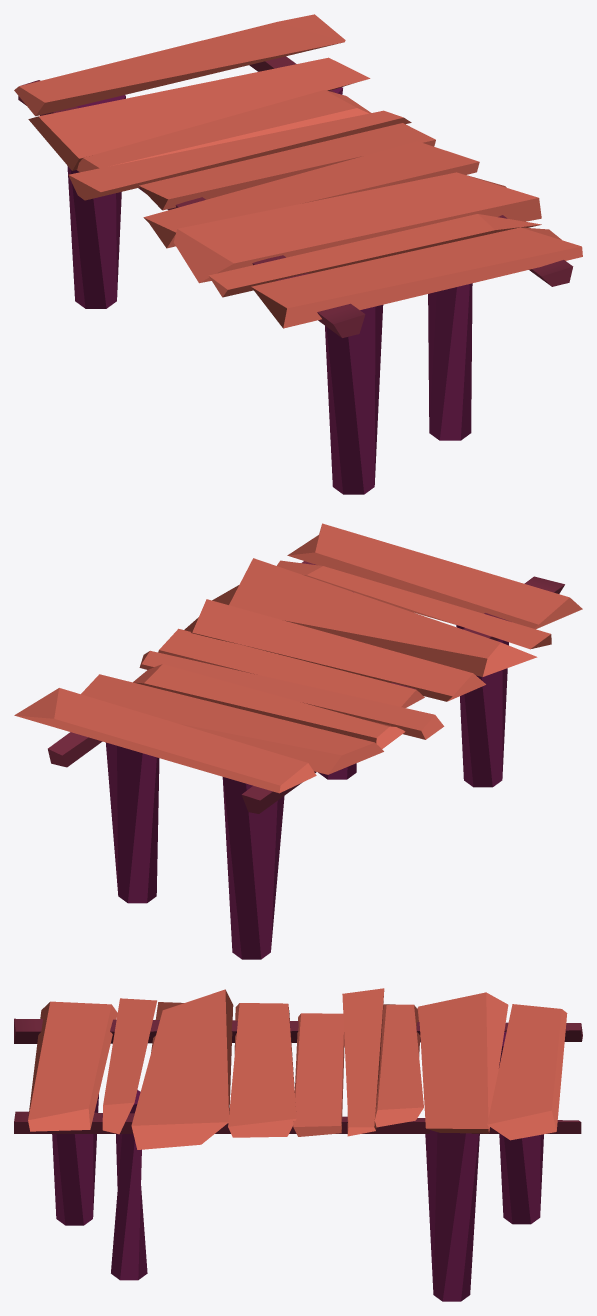
Rendered from bridge.glb.
3 renders of one model, top to bottom at view 1: azimuth 30°, elevation 25°; view 2: azimuth 150°, elevation 25°; view 3: azimuth 270°, elevation 25°, orthographic. The views are drawn at different scales.
Visible parts, largest first — view 1: Cube.009, Cube.003, Cube.011, Cube.007, Cube.005, Cylinder.001, Cube.010, Cube, Cube.008, Cube.004, Cylinder.002, Cylinder.003 (+2 smaller); view 2: Cube.009, Cube.003, Cube.007, Cube.005, Cube.011, Cylinder.003, Cylinder.004, Cube, Cube.004, Cube.010, Cube.008, Cylinder.001 (+2 smaller); view 3: Cube.009, Cube.011, Cube.003, Cube.007, Cube.005, Cylinder.004, Cube, Cube.010, Cube.004, Cube.008, Cylinder.002, Cylinder.001 (+3 smaller).
Boxes of the visible parts, bbox=[...] form: Cube.009: bbox=[173, 172, 541, 283]; Cube.003: bbox=[251, 227, 582, 328]; Cube.011: bbox=[28, 57, 370, 170]; Cube.007: bbox=[14, 14, 345, 116]; Cube.005: bbox=[143, 141, 479, 248]; Cylinder.001: bbox=[325, 305, 383, 494]; Cube.010: bbox=[68, 110, 411, 200]; Cube: bbox=[139, 123, 435, 210]; Cube.008: bbox=[208, 214, 541, 297]; Cube.004: bbox=[76, 90, 370, 172]; Cylinder.002: bbox=[428, 283, 472, 440]; Cylinder.003: bbox=[67, 95, 125, 308]; Cube.009: bbox=[212, 558, 537, 676]; Cube.003: bbox=[287, 523, 582, 629]; Cube.007: bbox=[14, 688, 316, 793]; Cube.005: bbox=[184, 599, 485, 701]; Cube.011: bbox=[81, 674, 383, 774]; Cylinder.003: bbox=[222, 777, 284, 959]; Cylinder.004: bbox=[105, 742, 159, 903]; Cube: bbox=[158, 628, 424, 707]; Cube.004: bbox=[133, 664, 405, 748]; Cube.010: bbox=[139, 650, 444, 739]; Cube.008: bbox=[277, 560, 551, 649]; Cylinder.001: bbox=[456, 625, 508, 787]; Cube.009: bbox=[131, 989, 233, 1149]; Cube.011: bbox=[417, 992, 508, 1133]; Cube.003: bbox=[28, 1001, 117, 1131]; Cube.007: bbox=[487, 1004, 567, 1140]; Cube.005: bbox=[228, 1003, 296, 1137]; Cylinder.004: bbox=[425, 1130, 479, 1301]; Cube: bbox=[293, 1013, 344, 1136]; Cube.010: bbox=[342, 988, 384, 1136]; Cube.004: bbox=[374, 1004, 423, 1127]; Cube.008: bbox=[102, 998, 156, 1134]; Cylinder.002: bbox=[111, 1090, 147, 1280]; Cylinder.001: bbox=[52, 1094, 98, 1225].
Size of the model in its own units: 87.2 by 53.46 by 139.
14 materials, 14 textured.
